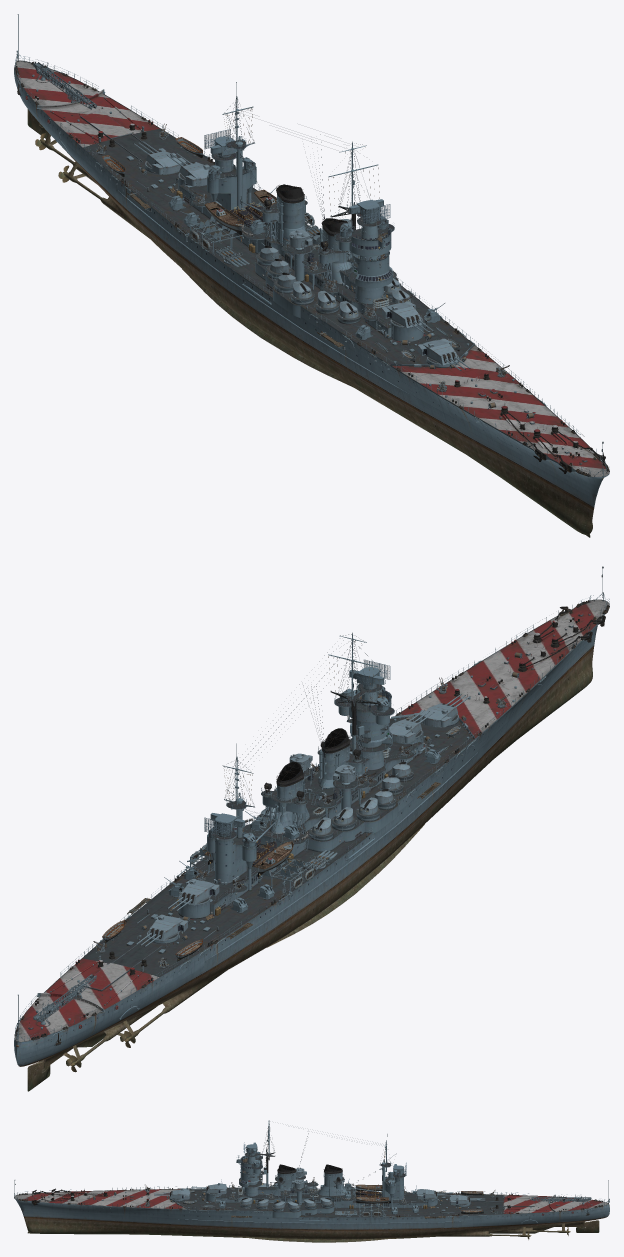
Rendered from italian_light_cruiser_cesare_borgiaplan_b_t10-maximum-compressed.glb.
3 renders of one model, top to bottom at view 1: azimuth 30°, elevation 25°; view 2: azimuth 150°, elevation 25°; view 3: azimuth 270°, elevation 25°, orthographic. The views are drawn at different scales.
Visible parts, largest first — view 1: ISC015_Torino_1943_midfront_Brindisi_isc015_torino_1943_hull (×2), ISC015_Torino_1943_midfront_Brindisi_isc015_torino_1943_deck (×2), ISC015_Torino_1943_midfront, ISC015_Torino_1943_midfront_Cristoforo_Colombo_igs014_152mm5, ISC015_Torino_1943_midfront_Brindisi_iga027_65mm_64_ansaldo_, ISC015_Torino_1943_midfront_Brindisi_iga004_breda_37mm_doubl, ISC015_Torino_1943_midfront_Brindisi_ic001_catapult_skinned_; view 2: ISC015_Torino_1943_midfront_Brindisi_isc015_torino_1943_hull, ISC015_Torino_1943_midfront_Brindisi_isc015_torino_1943_deck (×2), ISC015_Torino_1943_midfront, ISC015_Torino_1943_midfront_Cristoforo_Colombo_igs014_152mm5, ISC015_Torino_1943_midfront_Brindisi_iga027_65mm_64_ansaldo_, ISC015_Torino_1943_midfront_Brindisi_iga004_breda_37mm_doubl, ISC015_Torino_1943_midfront_Brindisi_ic001_catapult_skinned_; view 3: ISC015_Torino_1943_midfront_Brindisi_isc015_torino_1943_hull, ISC015_Torino_1943_midfront_Brindisi_isc015_torino_1943_deck (×2), ISC015_Torino_1943_midfront, ISC015_Torino_1943_midfront_Cristoforo_Colombo_igs014_152mm5, ISC015_Torino_1943_midfront_Brindisi_ic001_catapult_skinned_, ISC015_Torino_1943_midfront_Brindisi_iga004_breda_37mm_doubl, ISC015_Torino_1943_midfront_Brindisi_iga027_65mm_64_ansaldo_.
Boxes of the visible parts, <box> form: ISC015_Torino_1943_midfront_Brindisi_isc015_torino_1943_hull (×2): <box>14,14,609,537</box>; ISC015_Torino_1943_midfront_Brindisi_isc015_torino_1943_deck (×2): <box>15,55,609,476</box>; ISC015_Torino_1943_midfront: <box>25,74,605,473</box>; ISC015_Torino_1943_midfront_Cristoforo_Colombo_igs014_152mm5: <box>133,141,470,370</box>; ISC015_Torino_1943_midfront_Brindisi_iga027_65mm_64_ansaldo_: <box>164,187,444,339</box>; ISC015_Torino_1943_midfront_Brindisi_iga004_breda_37mm_doubl: <box>93,123,509,392</box>; ISC015_Torino_1943_midfront_Brindisi_ic001_catapult_skinned_: <box>33,61,96,109</box>; ISC015_Torino_1943_midfront_Brindisi_isc015_torino_1943_hull: <box>14,566,609,1091</box>; ISC015_Torino_1943_midfront_Brindisi_isc015_torino_1943_deck (×2): <box>15,595,609,1041</box>; ISC015_Torino_1943_midfront: <box>16,606,605,1047</box>; ISC015_Torino_1943_midfront_Cristoforo_Colombo_igs014_152mm5: <box>135,694,470,946</box>; ISC015_Torino_1943_midfront_Brindisi_iga027_65mm_64_ansaldo_: <box>164,747,445,912</box>; ISC015_Torino_1943_midfront_Brindisi_iga004_breda_37mm_doubl: <box>93,677,509,968</box>; ISC015_Torino_1943_midfront_Brindisi_ic001_catapult_skinned_: <box>33,974,96,1024</box>; ISC015_Torino_1943_midfront_Brindisi_isc015_torino_1943_hull: <box>14,1180,609,1242</box>; ISC015_Torino_1943_midfront_Brindisi_isc015_torino_1943_deck (×2): <box>17,1120,608,1217</box>; ISC015_Torino_1943_midfront: <box>32,1139,609,1216</box>; ISC015_Torino_1943_midfront_Cristoforo_Colombo_igs014_152mm5: <box>154,1183,485,1205</box>; ISC015_Torino_1943_midfront_Brindisi_ic001_catapult_skinned_: <box>531,1194,591,1204</box>; ISC015_Torino_1943_midfront_Brindisi_iga004_breda_37mm_doubl: <box>143,1177,496,1212</box>; ISC015_Torino_1943_midfront_Brindisi_iga027_65mm_64_ansaldo_: <box>219,1179,418,1214</box>.
Size of the model in its own units: 0.4146 by 0.8166 by 3.9.
Materials: 56 (55 with a texture image).
